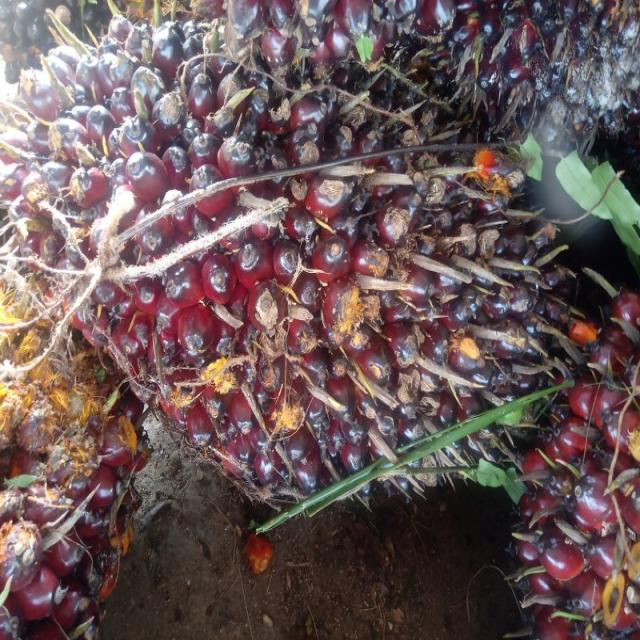fraksi 1: (0, 0, 566, 537)
